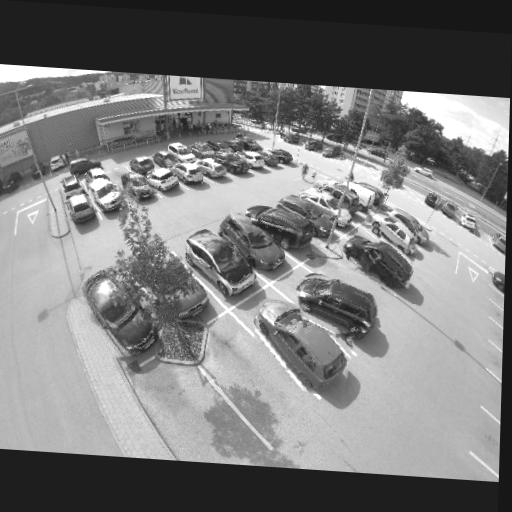busy: (248, 298, 356, 397), (81, 260, 160, 362), (296, 266, 380, 340), (185, 230, 254, 298), (220, 214, 284, 272), (348, 234, 416, 287), (251, 203, 310, 246), (362, 212, 420, 249), (299, 186, 349, 224), (282, 196, 329, 231), (86, 175, 124, 214), (321, 181, 362, 211), (66, 190, 96, 225), (146, 166, 180, 195), (125, 173, 156, 203), (173, 161, 206, 188), (214, 149, 248, 175), (196, 157, 226, 181), (167, 142, 196, 163), (0, 169, 23, 195), (270, 146, 297, 168), (456, 209, 480, 233), (58, 174, 83, 197), (437, 200, 464, 221), (239, 149, 265, 170), (152, 150, 177, 169), (131, 155, 156, 174), (256, 150, 280, 168), (322, 144, 345, 162), (26, 160, 47, 179), (192, 141, 214, 159), (87, 165, 109, 183), (48, 155, 69, 172), (210, 139, 232, 155), (424, 194, 443, 211), (241, 137, 264, 151), (304, 139, 323, 154), (224, 138, 243, 152)
free: (221, 355, 275, 402), (170, 387, 222, 435), (339, 264, 382, 297), (354, 223, 382, 248), (105, 165, 128, 185)
